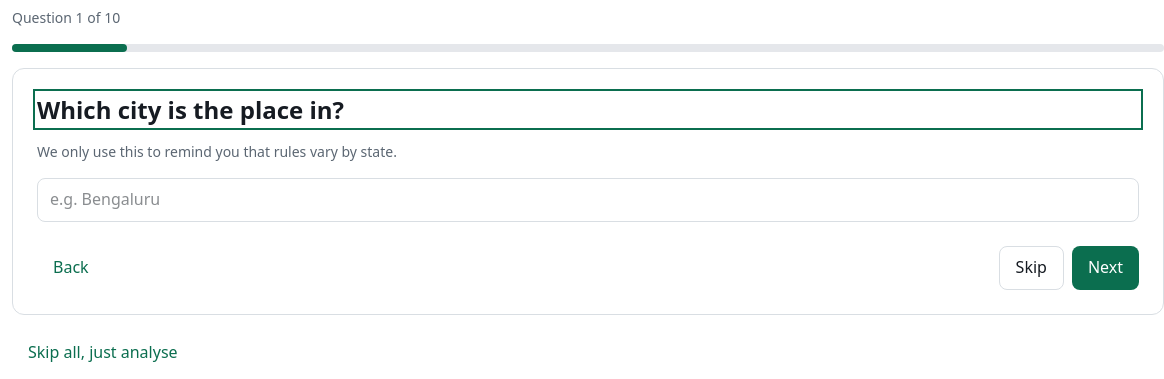
Test: Interview › hides "Skip all" after the first question
Click the button "Skip": (1031, 268) [999, 246, 1064, 290]
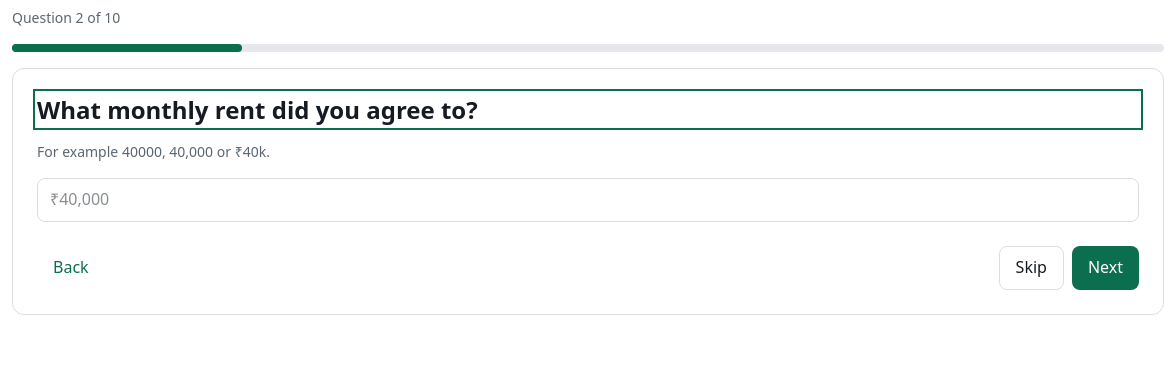
Now the button "Skip all, just analyse" is gone
